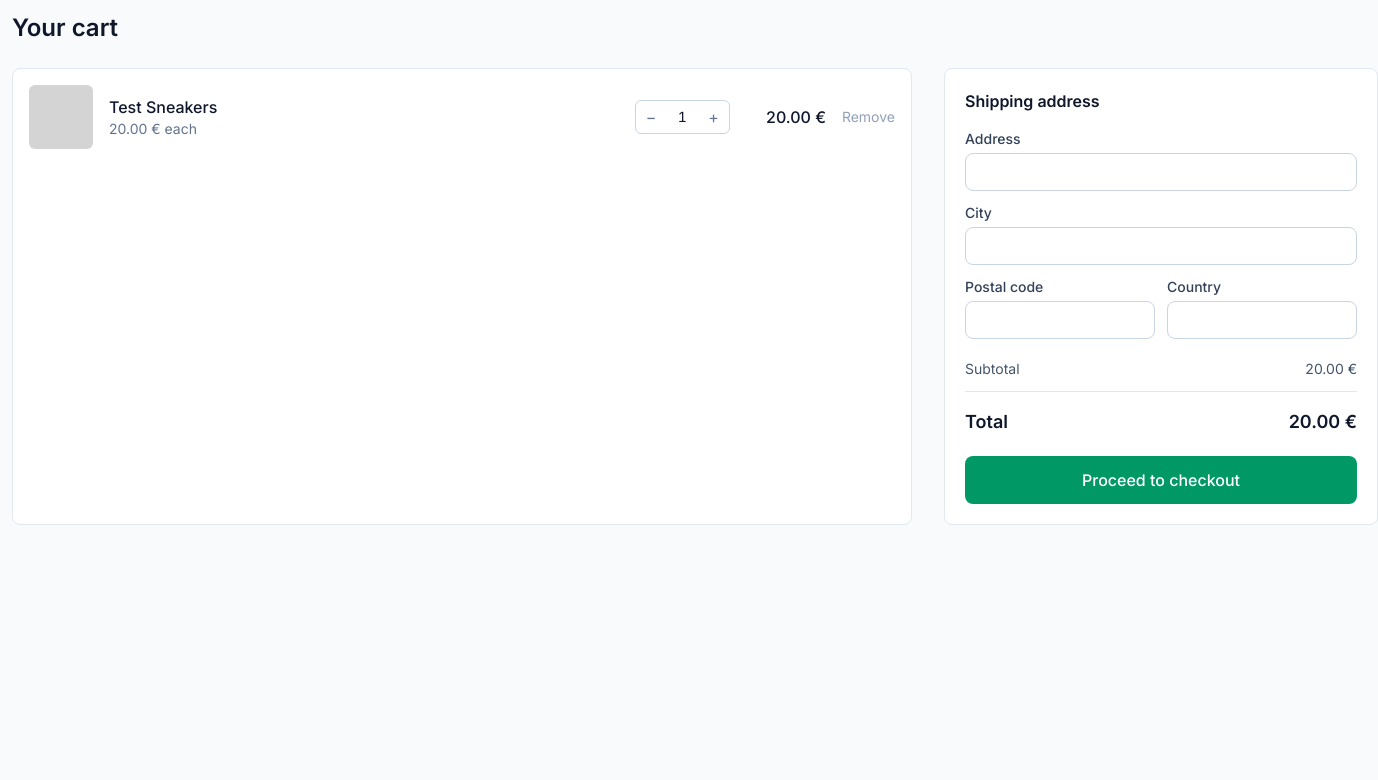
Test: CartPage › clears the previous error when the customer tries again
Type "Testikatu 1" into the field labelled "Address" at (1161, 172), box 965,153 -> 1357,191
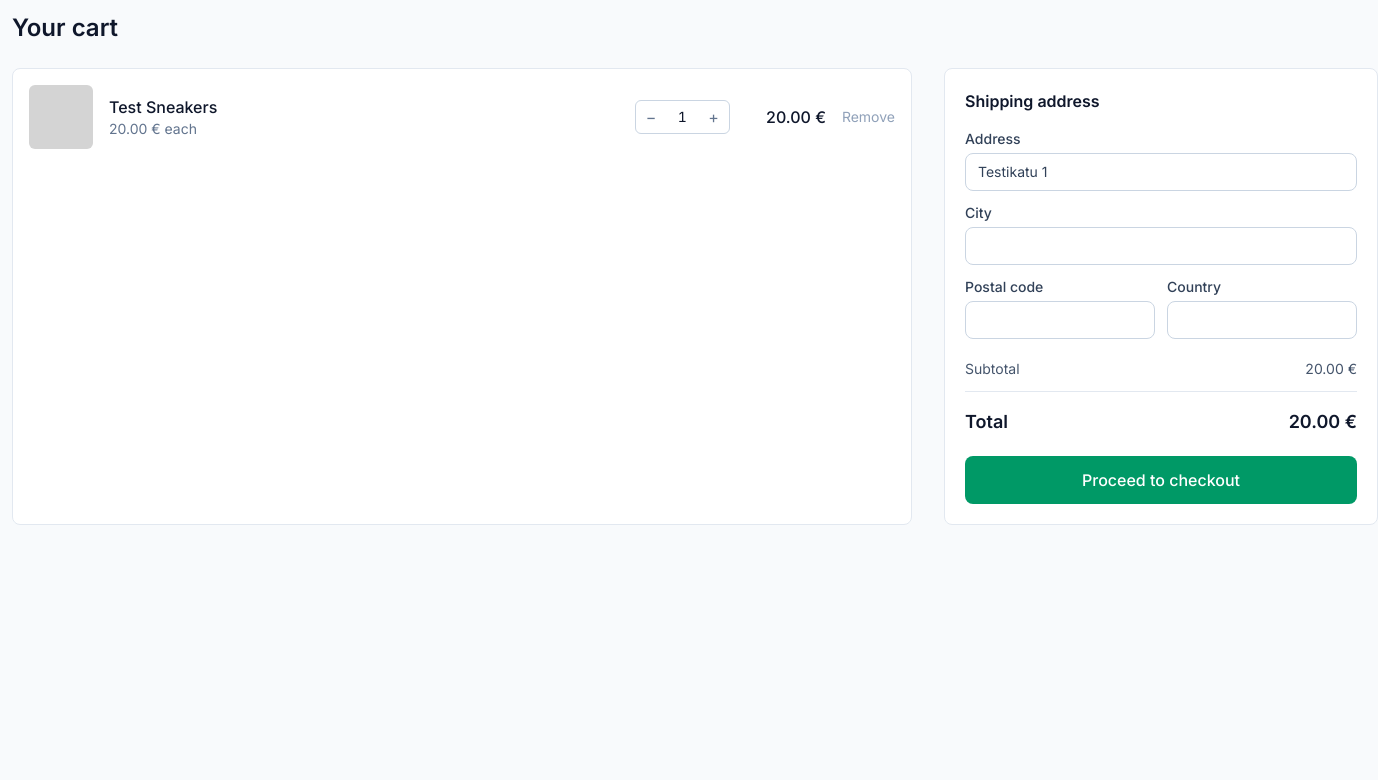
Type "Helsinki" into the field labelled "City" at (1161, 246), box 965,227 -> 1357,265
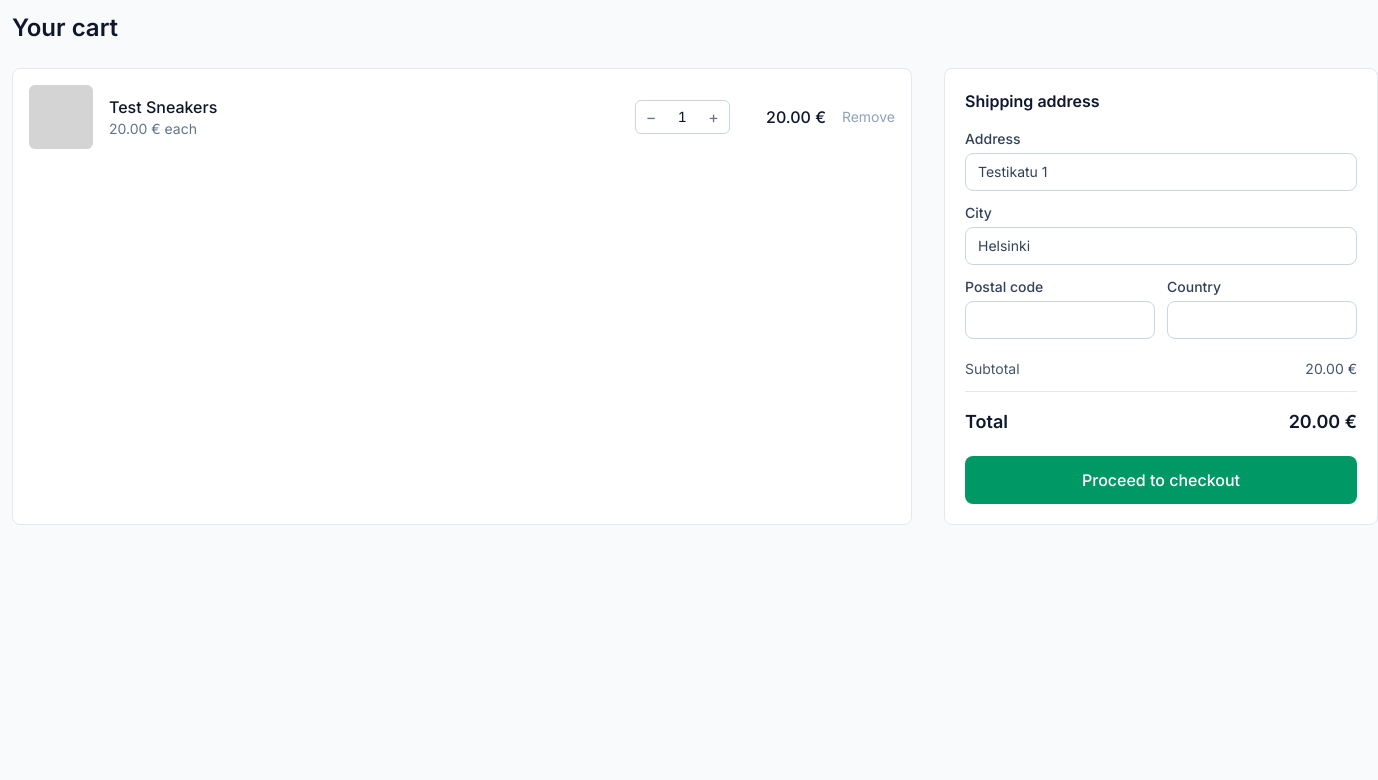
Type "00100" into the field labelled "Postal code" at (1060, 320), box 965,301 -> 1155,339
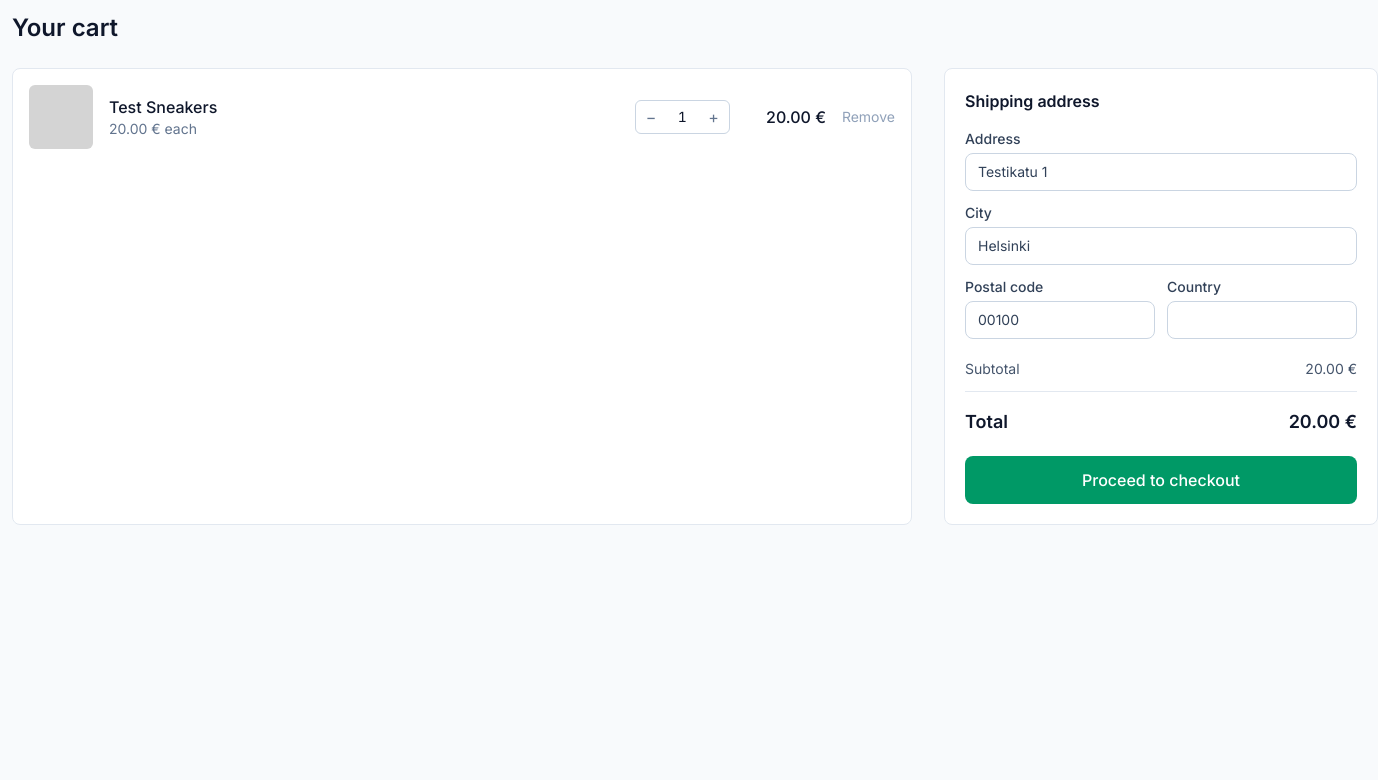
Type "FI" into the field labelled "Country" at (1262, 320), box 1167,301 -> 1357,339
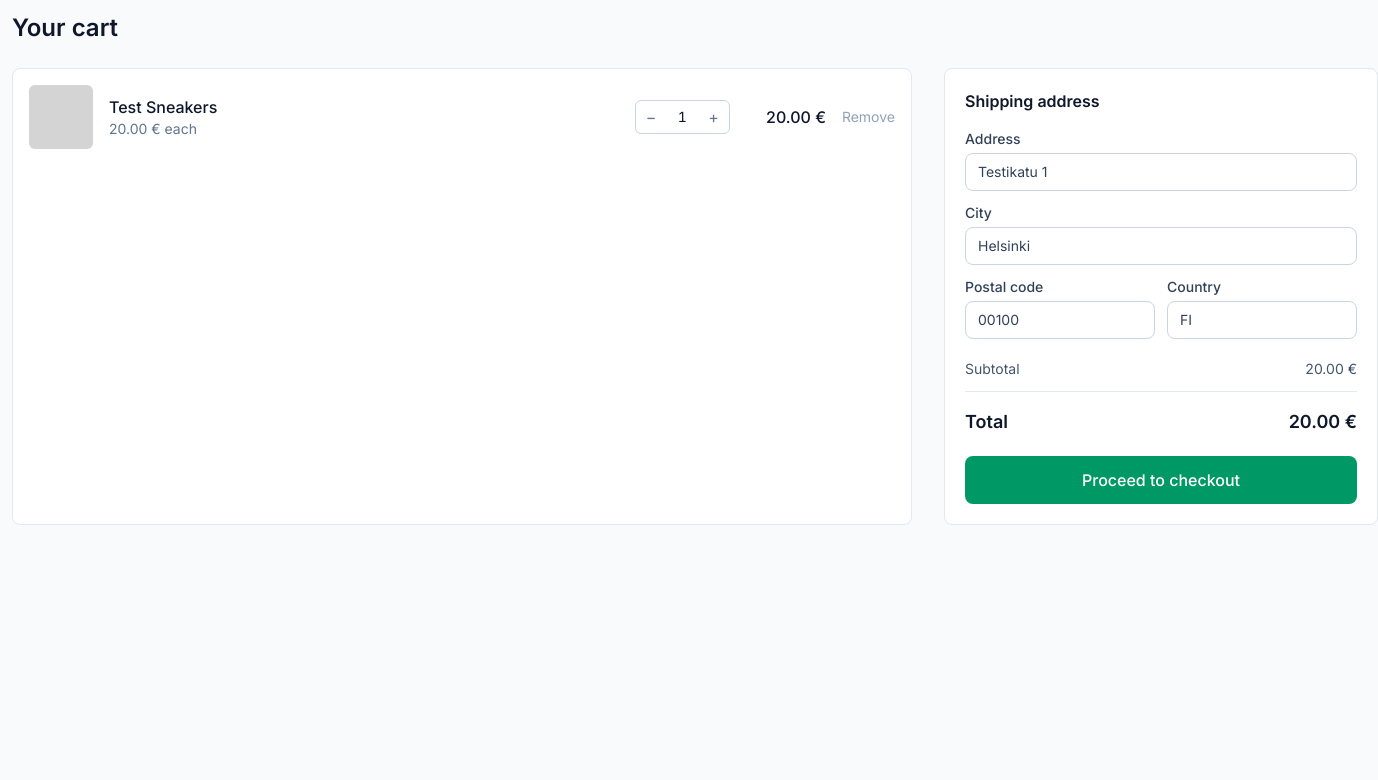
Click the button "Proceed to checkout" at (1161, 480), box 965,456 -> 1357,504
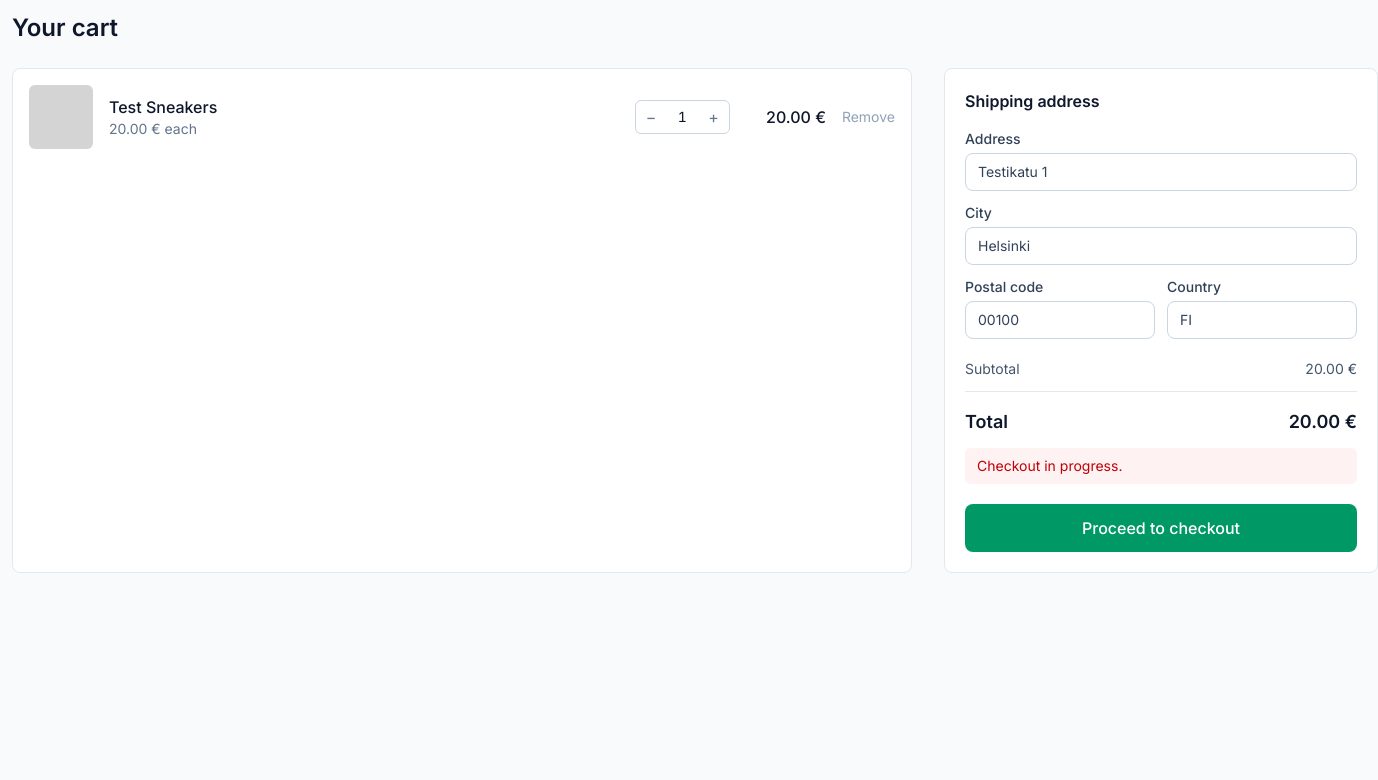
Check: the message "Checkout in progress." is shown, box 965,448 -> 1357,484
Click the button "Proceed to checkout" at (1161, 528), box 965,504 -> 1357,552
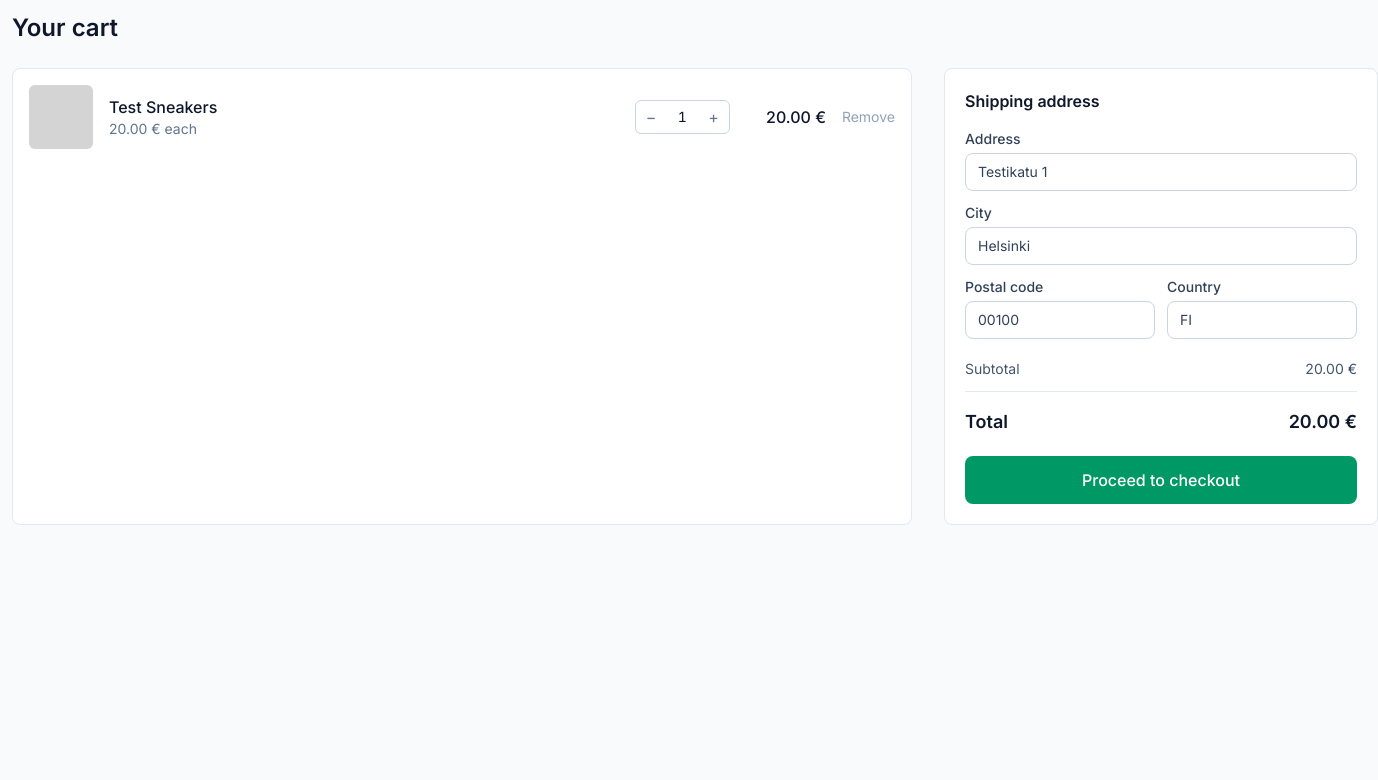
Check: the message "Checkout in progress." is gone
